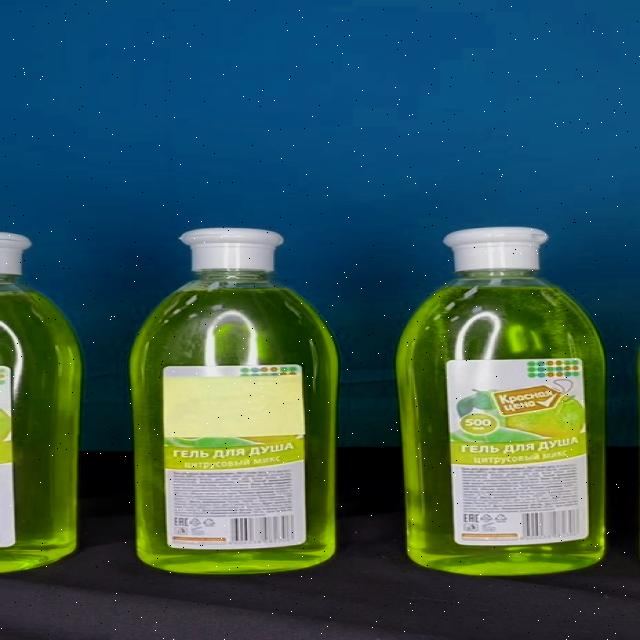Bottle: (395, 228, 607, 576), (132, 227, 339, 575)
Cap: (442, 228, 548, 272), (180, 228, 284, 270)
